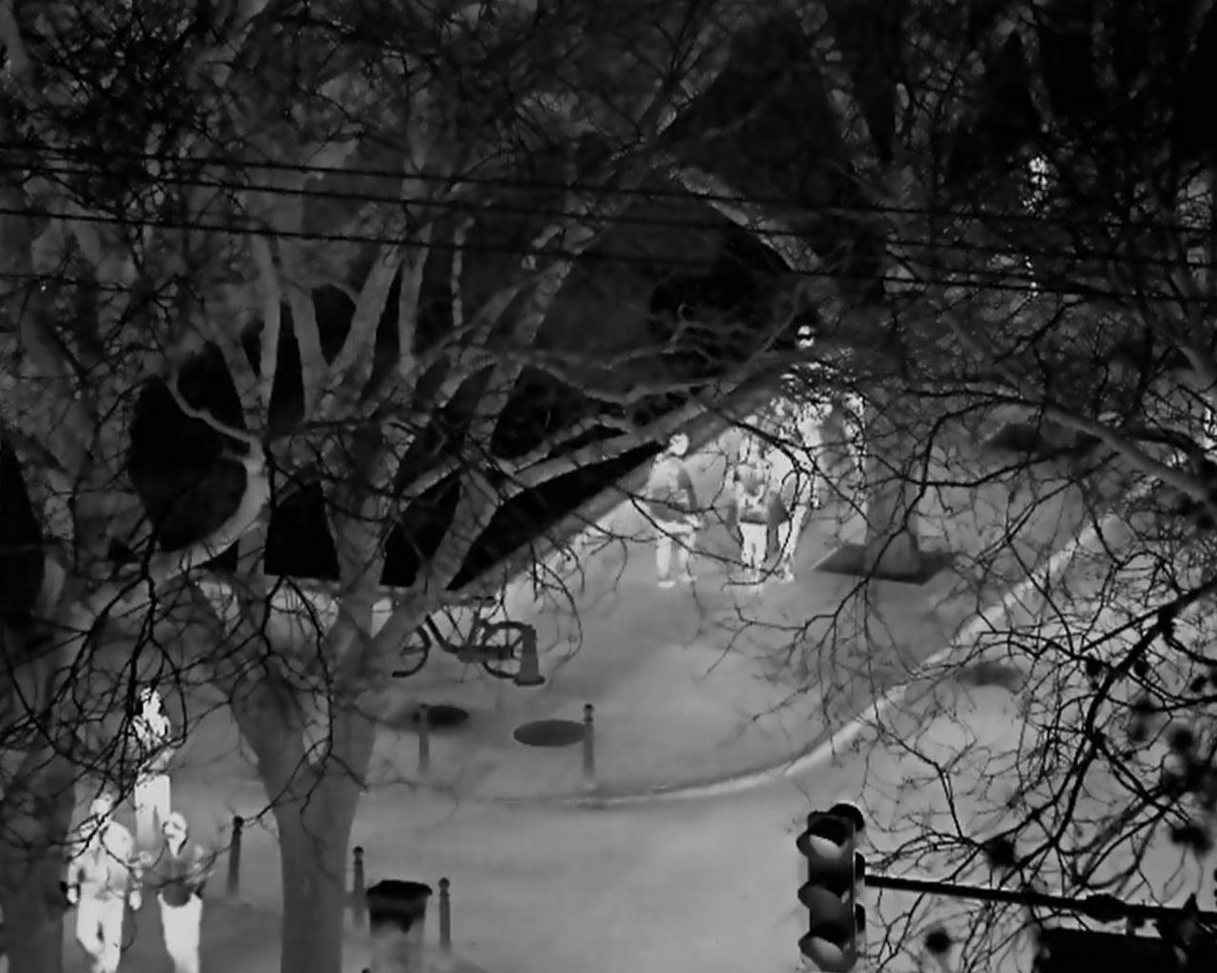person: (66, 792, 130, 973), (148, 811, 205, 973), (645, 432, 704, 587), (763, 428, 818, 581), (725, 432, 779, 586), (126, 690, 173, 851)
